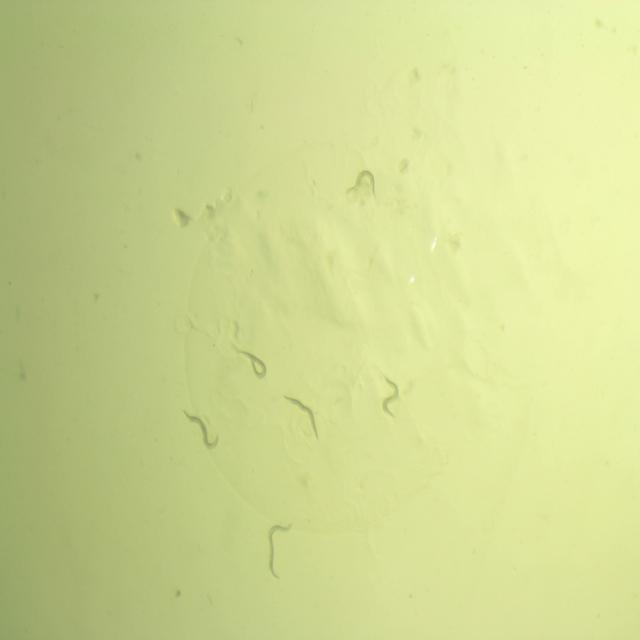worm: (264, 518, 296, 586), (282, 391, 322, 445), (180, 405, 222, 454), (342, 166, 378, 206), (377, 369, 403, 422), (238, 346, 270, 385)
